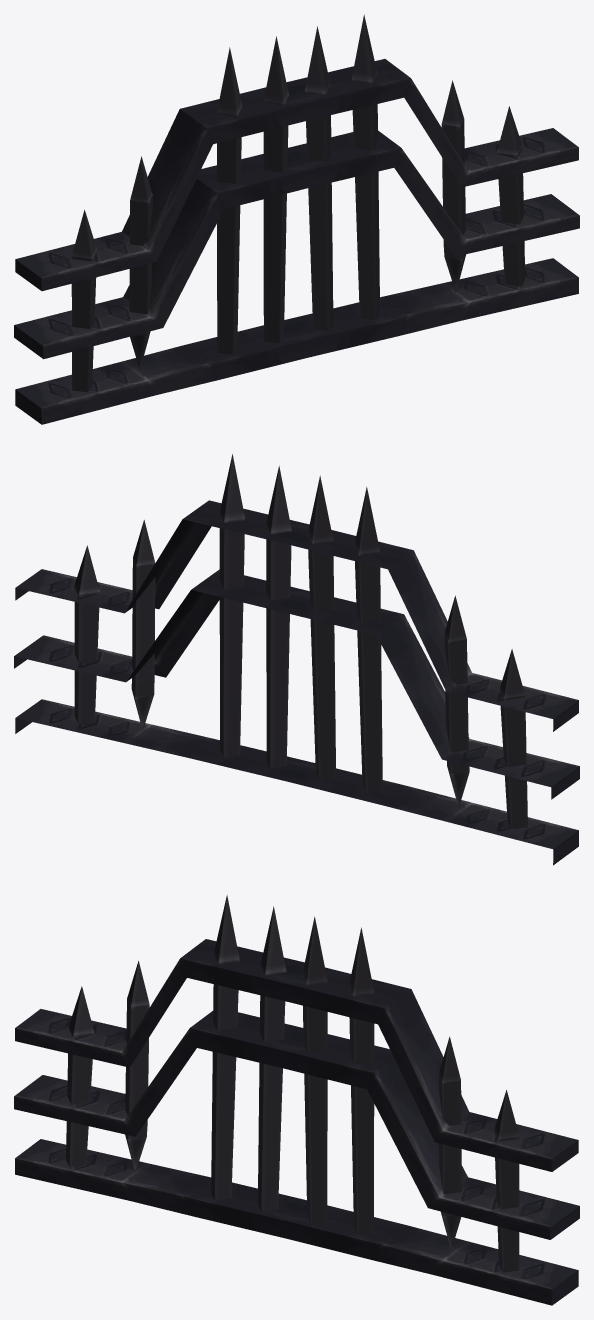
The model's file is sn_jixie_tiechuang_002.FBX.
The picture shows the model from 3 angles, top to bottom: view 1: azimuth 30°, elevation 25°; view 2: azimuth 150°, elevation 25°; view 3: azimuth 330°, elevation 25°; orthographic projection.
Visible parts, largest first — view 1: sn_jixie_tiechuang_002; view 2: sn_jixie_tiechuang_002; view 3: sn_jixie_tiechuang_002.
Part boxes in pixels (x1,y1,x2,y2): sn_jixie_tiechuang_002: [14, 14, 579, 424]; sn_jixie_tiechuang_002: [14, 454, 579, 865]; sn_jixie_tiechuang_002: [14, 895, 579, 1305].
Size of the model in its own units: 11.43 by 1.09 by 6.5.
